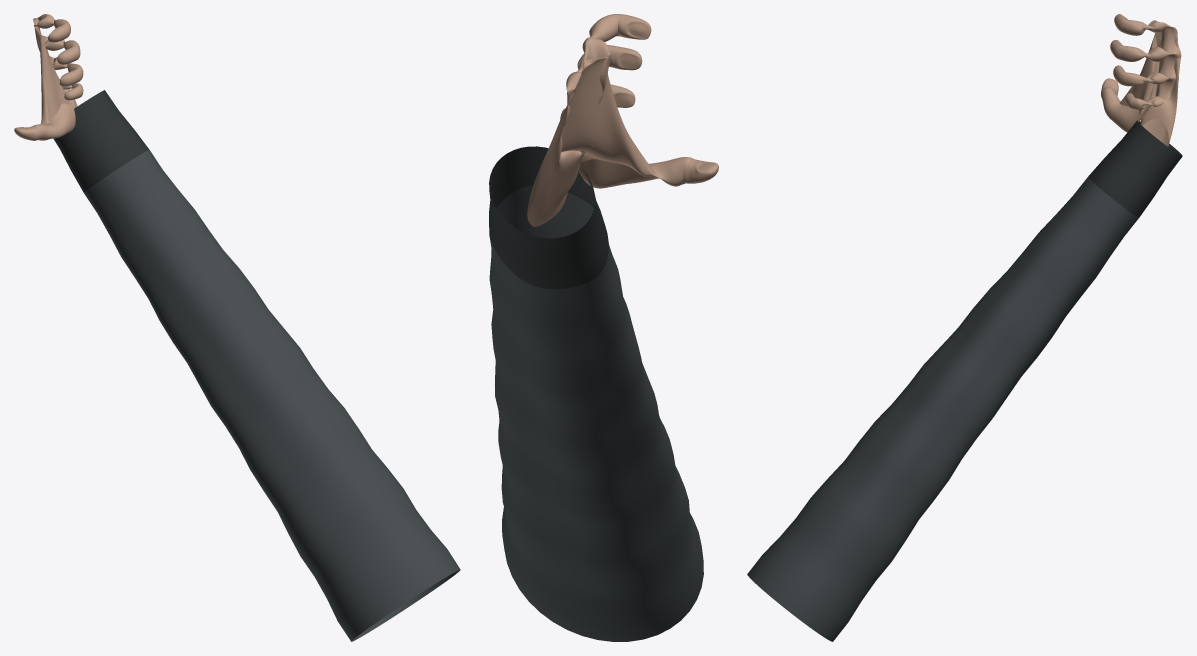
Rendered from clock.glb.
3 views of the same model, side by side, from view 1: azimuth 30°, elevation 25°; view 2: azimuth 150°, elevation 25°; view 3: azimuth 270°, elevation 25° (orthographic). The views are drawn at different scales.
Visible parts, largest first — view 1: RightHand_clock_Sleeve, RightHand_clock; view 2: RightHand_clock_Sleeve, RightHand_clock; view 3: RightHand_clock_Sleeve, RightHand_clock.
Boxes of the visible parts, x1,y1,x2,y2 form: RightHand_clock_Sleeve: (53, 90, 460, 641); RightHand_clock: (14, 14, 83, 140); RightHand_clock_Sleeve: (489, 146, 703, 641); RightHand_clock: (527, 14, 718, 226); RightHand_clock_Sleeve: (747, 120, 1182, 641); RightHand_clock: (1101, 14, 1181, 146).
Bounding box in the file's own units: 0.3271 × 0.5891 × 0.4311.
